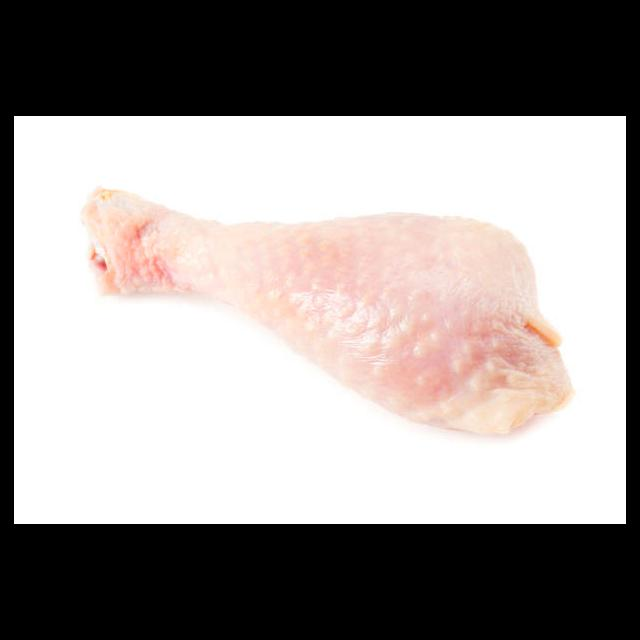chicken: (82, 182, 577, 438)
